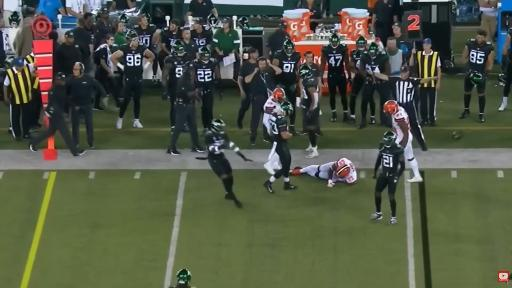Helmet: (172, 39, 186, 56), (381, 131, 396, 146), (383, 100, 399, 114), (336, 164, 350, 178), (177, 269, 191, 283), (281, 101, 294, 116), (211, 119, 225, 132), (299, 65, 312, 79), (469, 71, 483, 84), (367, 43, 379, 58), (199, 47, 211, 61), (283, 39, 294, 54), (273, 88, 285, 101), (126, 30, 138, 43), (356, 36, 367, 50), (330, 32, 340, 47), (238, 17, 250, 29), (207, 14, 218, 26), (498, 73, 506, 86), (119, 14, 129, 24), (98, 7, 109, 15), (144, 14, 151, 23)
Jersey: (466, 39, 493, 74), (274, 51, 301, 85), (164, 54, 193, 85), (120, 45, 146, 78), (379, 144, 403, 176), (322, 44, 347, 74), (360, 52, 389, 77), (392, 107, 412, 143), (193, 58, 217, 87), (330, 158, 357, 183), (205, 130, 230, 156), (301, 76, 318, 108), (134, 24, 156, 47), (161, 28, 182, 51), (270, 114, 287, 142), (191, 27, 212, 47), (264, 98, 281, 114), (350, 50, 363, 69)
Player: (111, 31, 154, 129), (205, 120, 252, 207), (460, 29, 494, 122), (384, 100, 422, 182), (371, 132, 404, 224), (264, 102, 296, 193), (320, 32, 351, 122), (162, 40, 193, 128), (359, 43, 390, 128), (193, 47, 220, 132), (291, 158, 357, 187), (273, 39, 301, 106), (299, 65, 319, 158), (349, 36, 367, 123), (263, 88, 285, 145), (134, 14, 159, 54), (499, 28, 511, 111), (170, 269, 191, 287)
